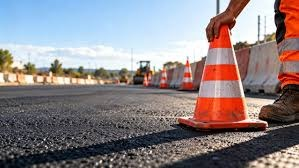machinery: (128, 58, 158, 90)
safety_cone: (195, 24, 265, 130), (179, 58, 198, 91), (159, 64, 174, 93), (143, 70, 155, 88)
